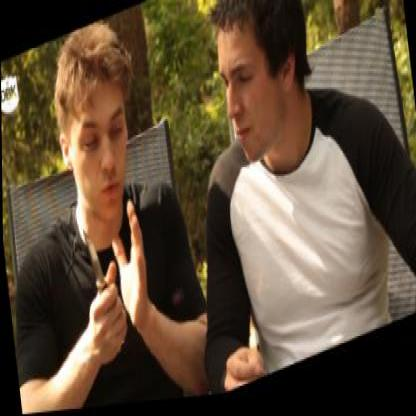knife: (72, 206, 128, 350)
